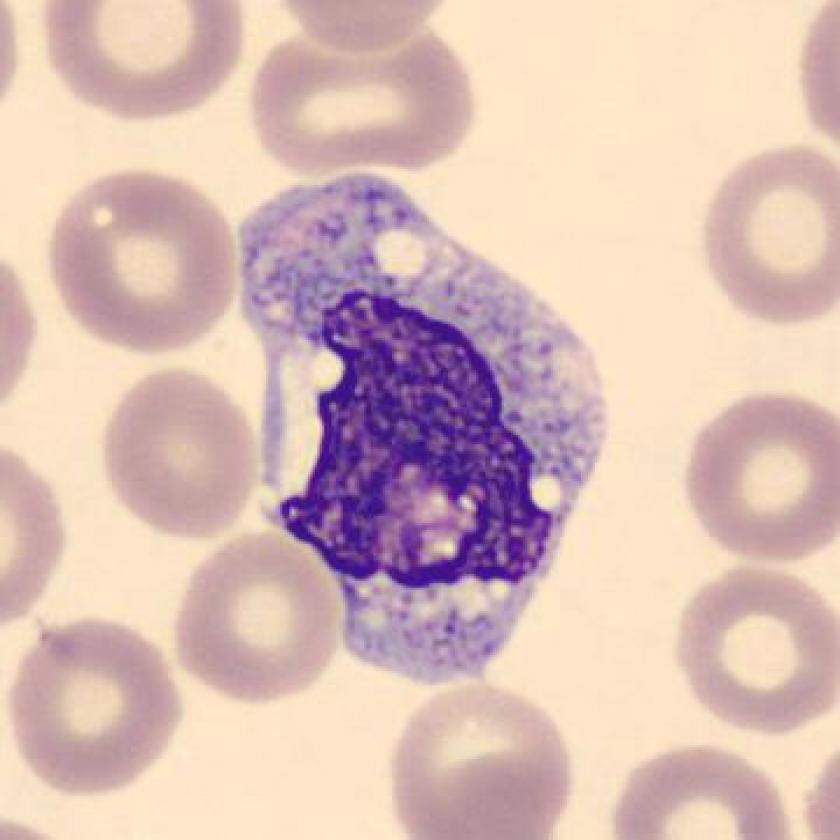monocyte: (206, 159, 631, 705)
